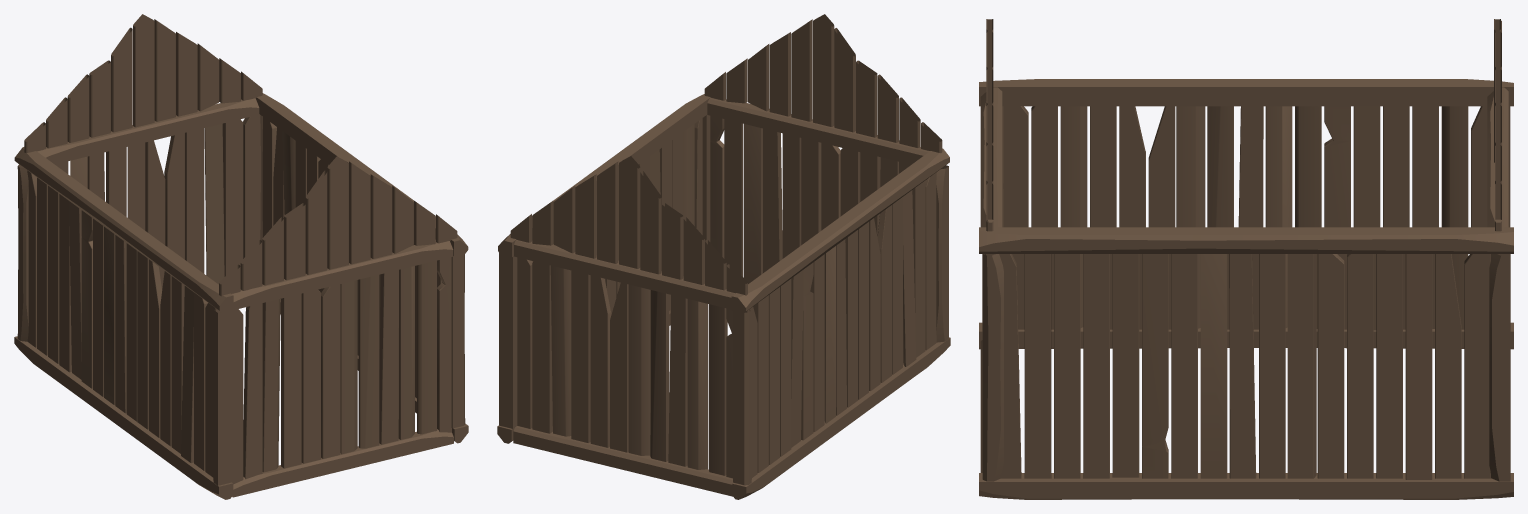
The model's file is Building-M01A.fbx.
The picture shows the model from 3 angles, left to right: view 1: azimuth 30°, elevation 25°; view 2: azimuth 150°, elevation 25°; view 3: azimuth 270°, elevation 25°; orthographic projection. The views are drawn at different scales.
Parts seen in each view (by area): view 1: Building-M01A; view 2: Building-M01A; view 3: Building-M01A.
Boxes of the visible parts, x1,y1,x2,y2 form: Building-M01A: (14, 14, 468, 499); Building-M01A: (497, 14, 950, 499); Building-M01A: (979, 19, 1513, 499).
Bounding box in the file's own units: 866 × 1031 × 1229.
